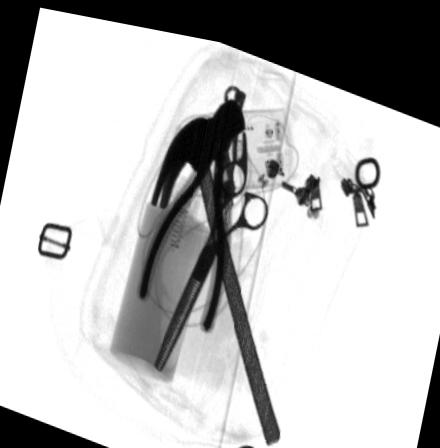Hammer: (147, 87, 280, 436)
Knife: (211, 74, 247, 277)
Pliers: (135, 106, 234, 326)
Scissors: (150, 120, 268, 366)
